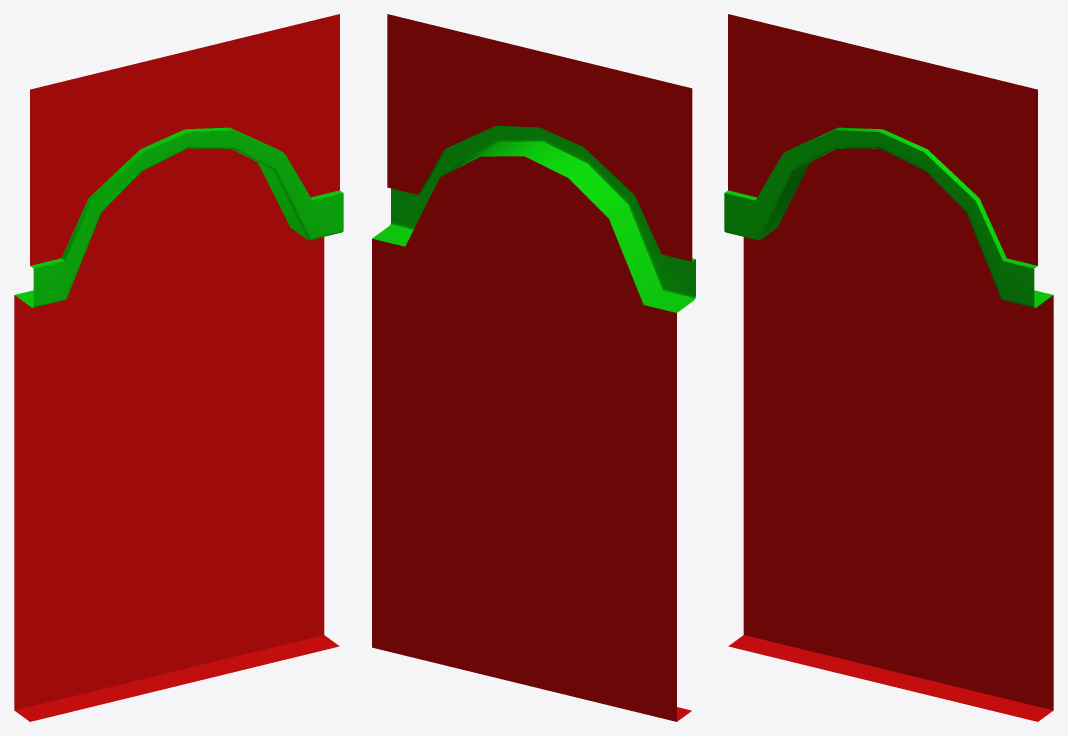
The model's file is Mdl_Tower_WallFlat.fbx.
The picture shows the model from 3 angles, left to right: view 1: azimuth 30°, elevation 25°; view 2: azimuth 150°, elevation 25°; view 3: azimuth 330°, elevation 25°; orthographic projection.
Visible parts, largest first — view 1: Mdl_Tower_WallFlat; view 2: Mdl_Tower_WallFlat; view 3: Mdl_Tower_WallFlat.
Boxes of the visible parts, left/top/right/bottom form: Mdl_Tower_WallFlat: left=14, top=14, right=343, bottom=721; Mdl_Tower_WallFlat: left=372, top=14, right=695, bottom=721; Mdl_Tower_WallFlat: left=724, top=14, right=1053, bottom=721.
Size of the model in its own units: 2.25 by 0.2447 by 4.4.
